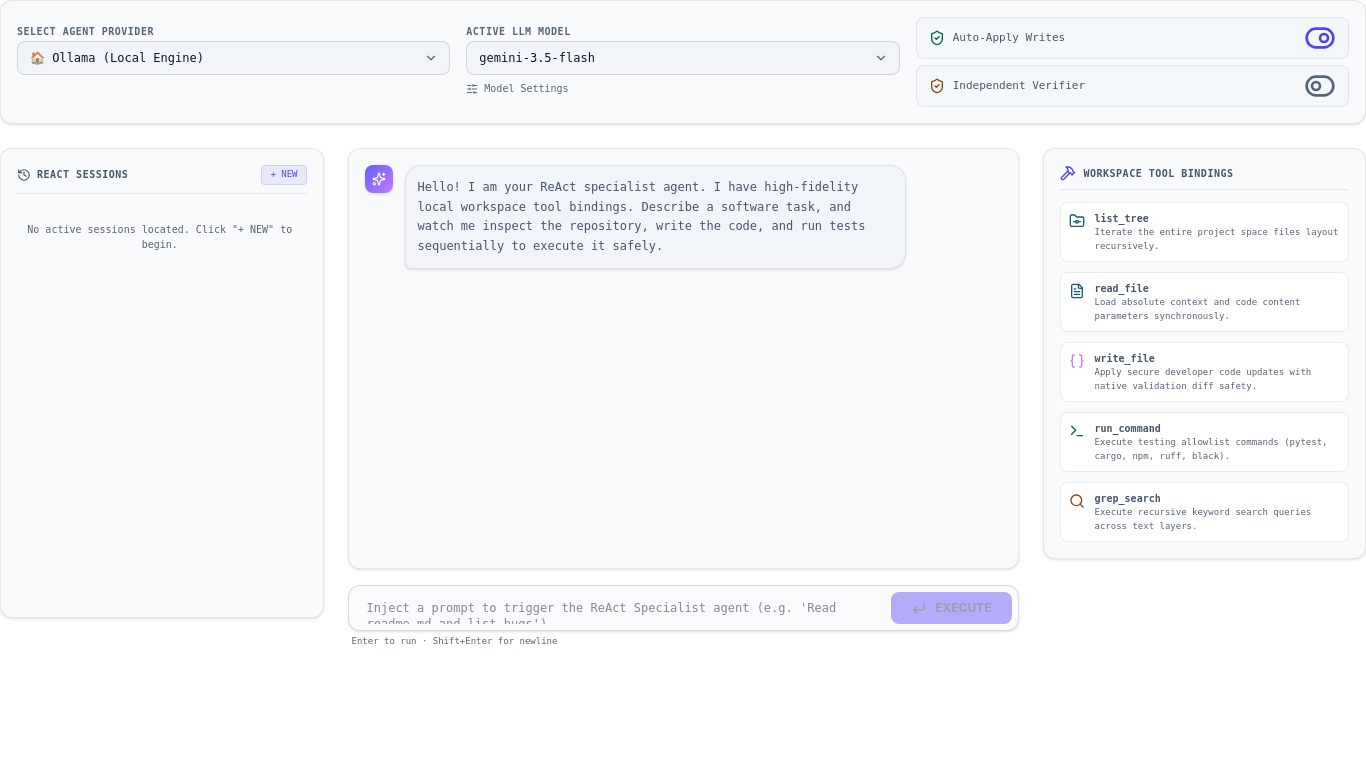
Test case: ReactAgentTab — ReAct Specialist › renders fenced code from an assistant message as a <pre> block
The image size is (1366, 768).
Replace the text in the text box with "show code" at x=618, y=608, box top-left (354, 592), bottom-right (881, 624)
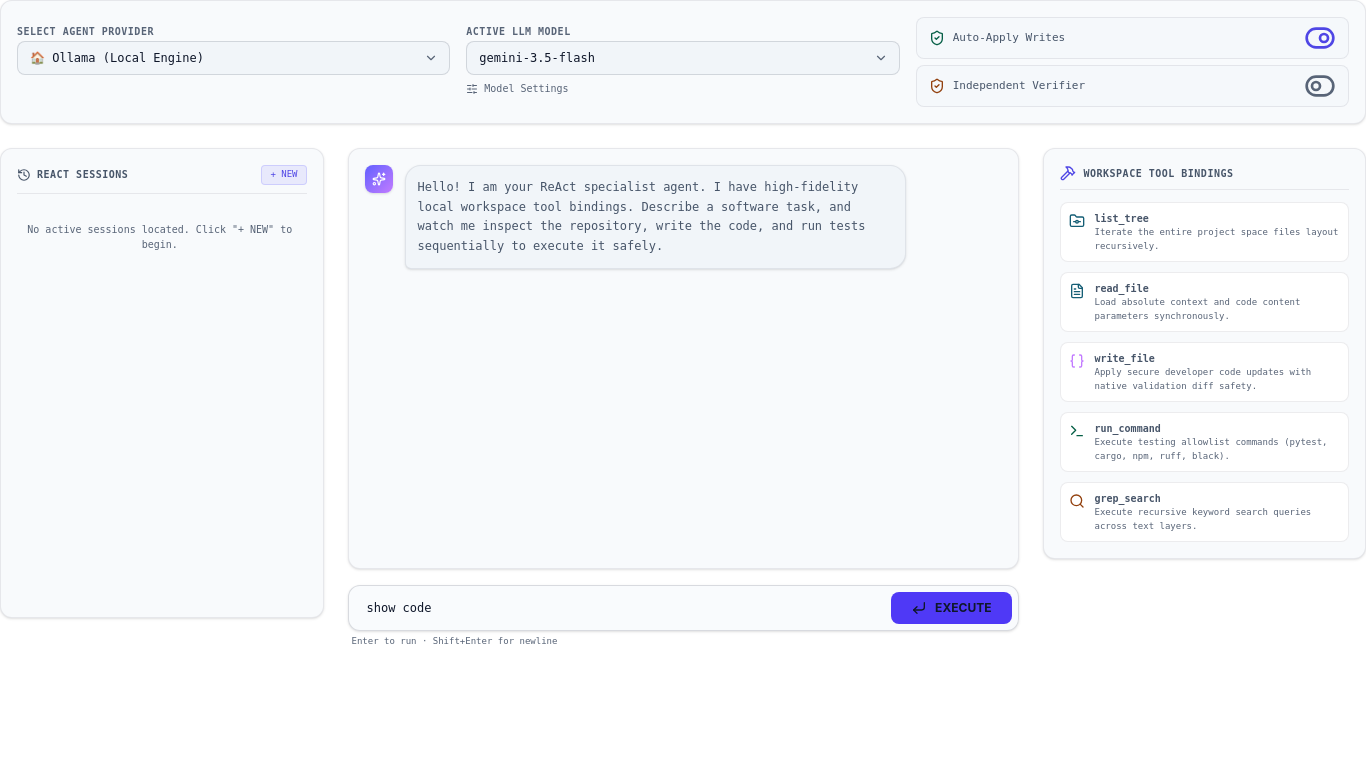
Press Enter in the text box, box top-left (354, 592), bottom-right (881, 624)
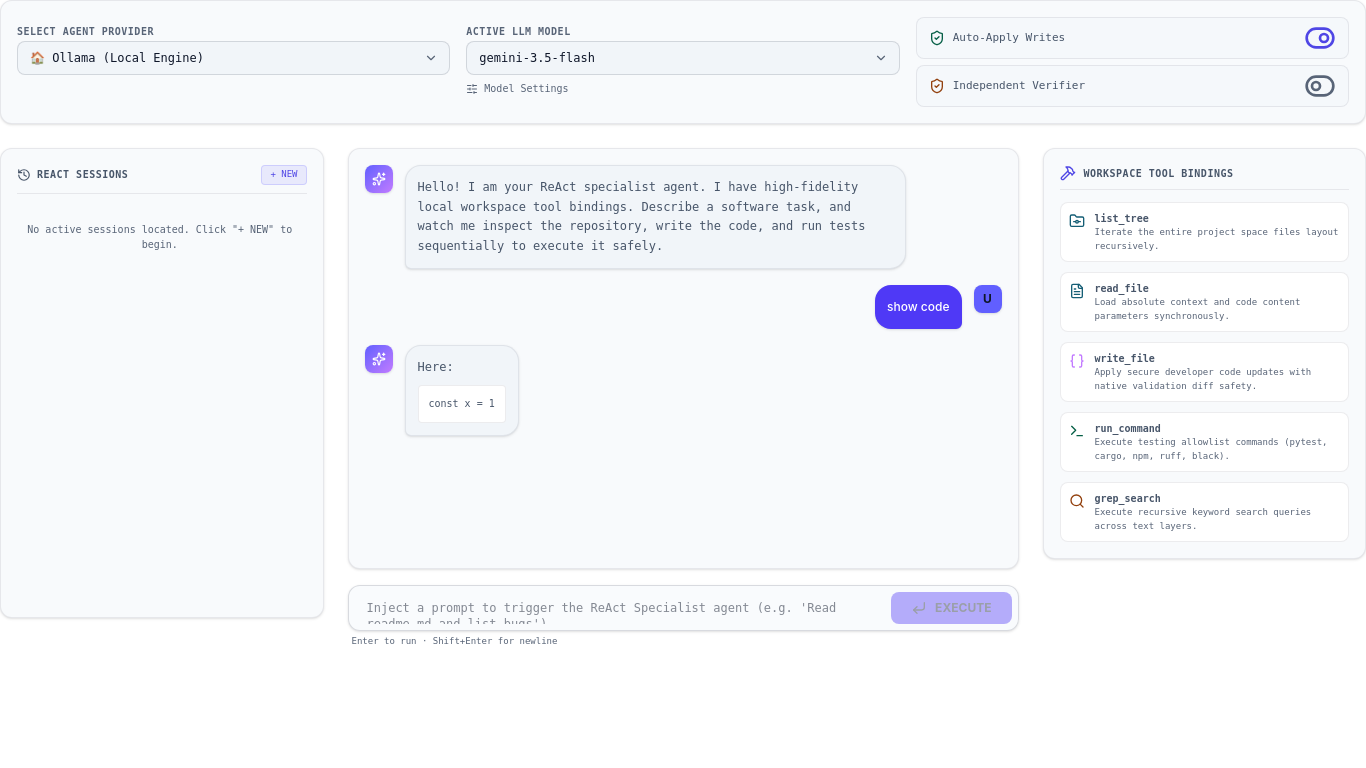
Now the text "const x = 1" is shown, box top-left (418, 385), bottom-right (506, 423)
